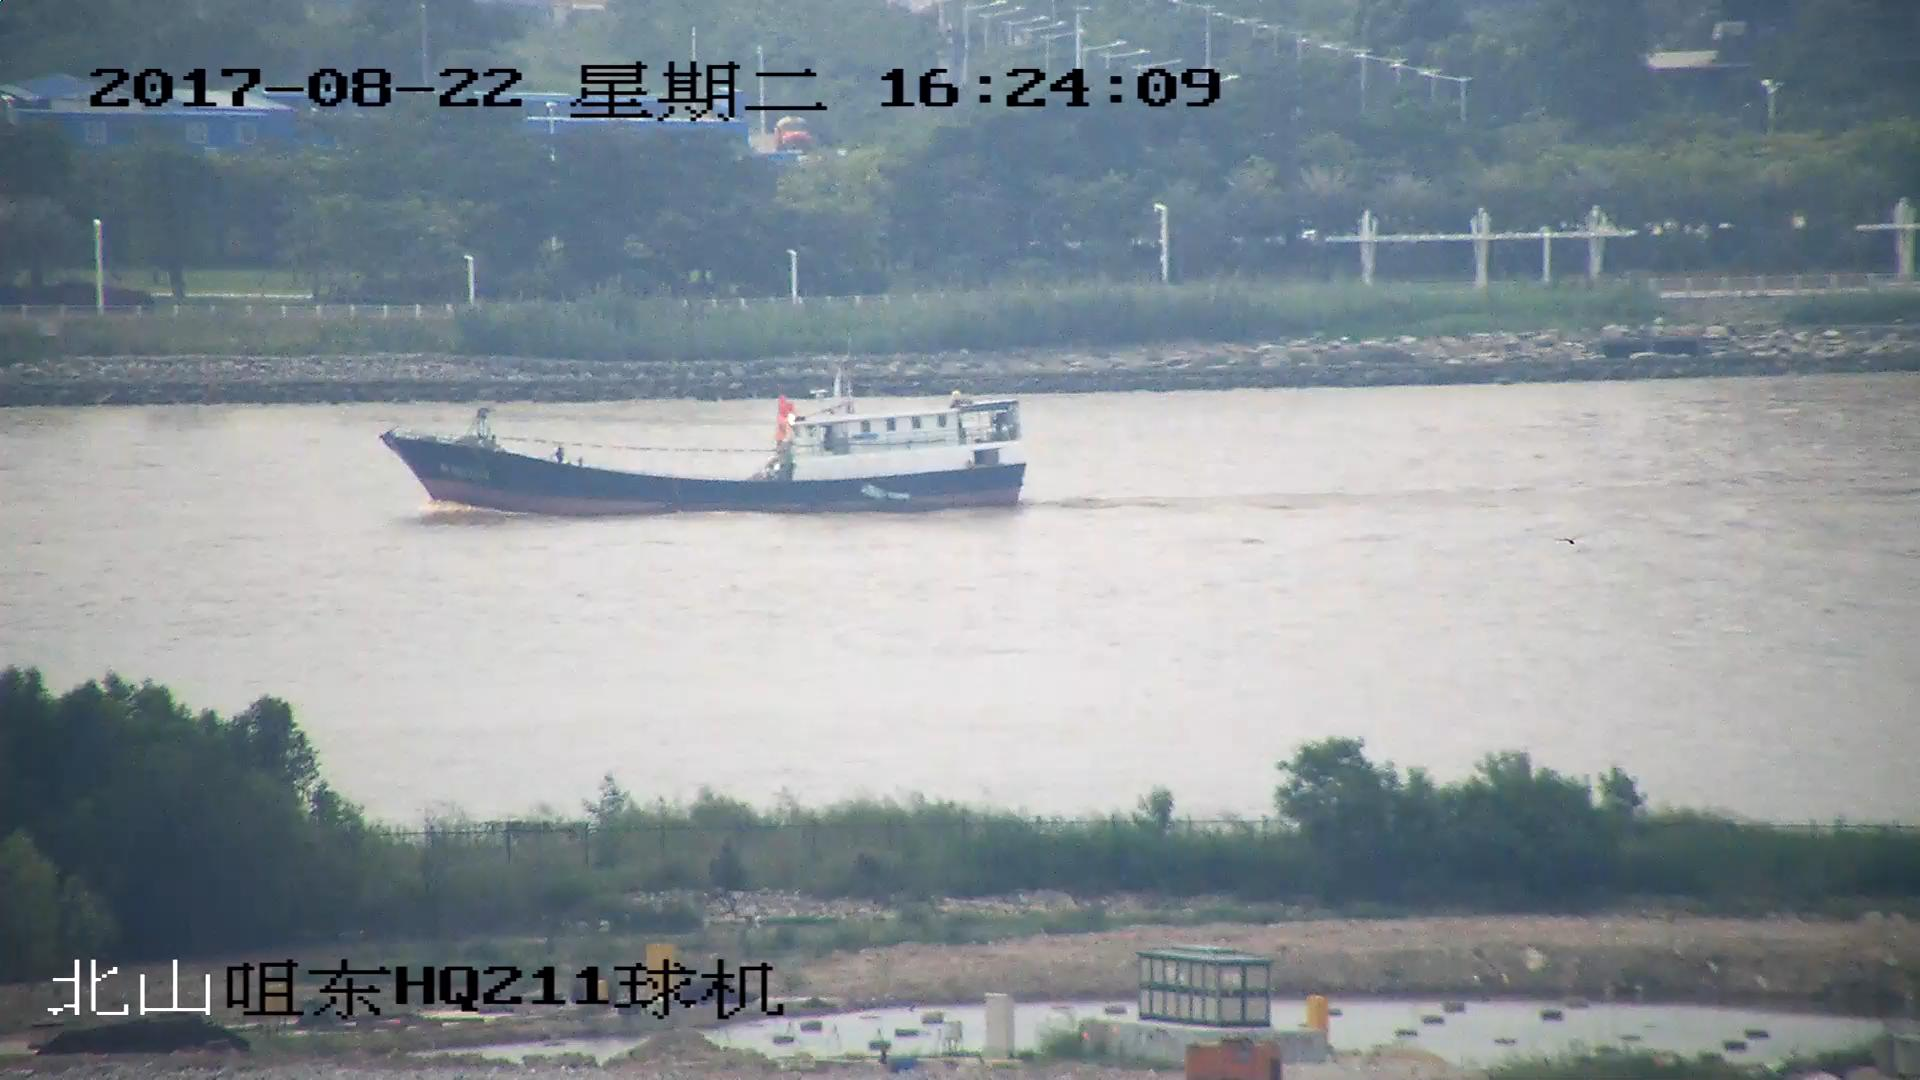fishing boat: (385, 353, 1028, 519)
